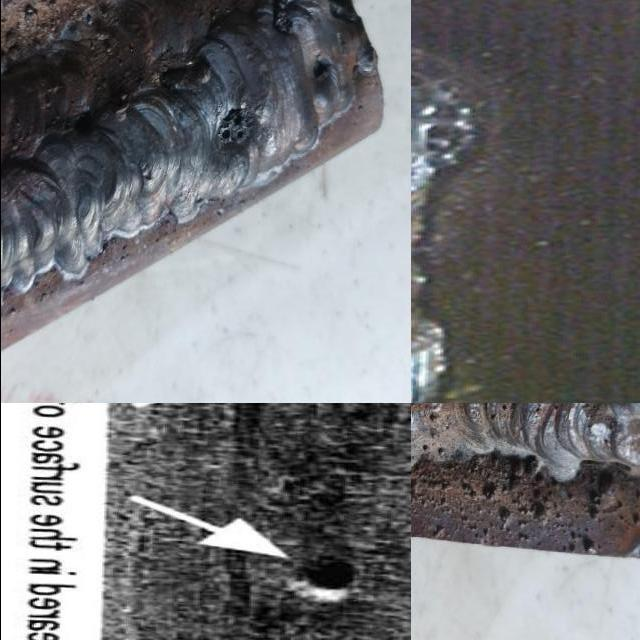defect: (410, 69, 470, 167), (295, 548, 386, 610), (216, 104, 254, 155), (272, 0, 297, 38), (310, 48, 332, 83), (72, 110, 95, 139)
